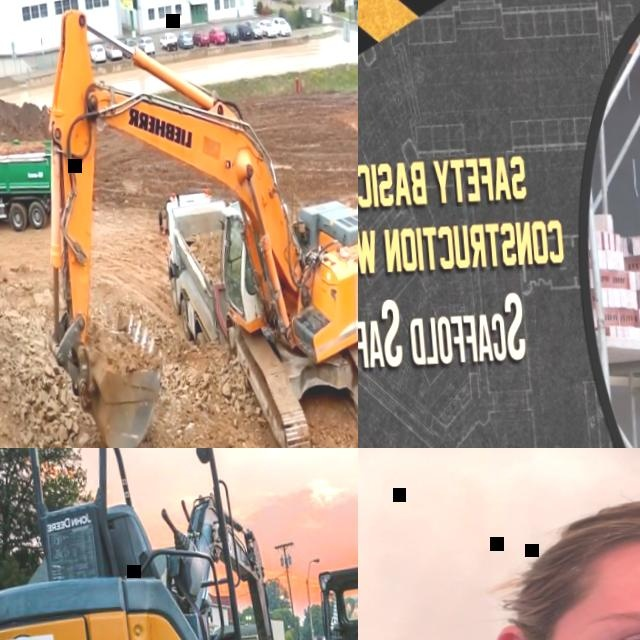NO-Hardhat: (525, 480, 640, 600)
Person: (358, 464, 640, 640), (244, 266, 253, 291)
machinery: (19, 0, 358, 448), (0, 448, 317, 640), (155, 184, 237, 347), (267, 558, 358, 640), (0, 127, 59, 237)
vehicle: (272, 14, 291, 36), (257, 17, 277, 37), (159, 31, 178, 51), (221, 23, 240, 43), (121, 36, 138, 58), (105, 41, 123, 61), (136, 35, 154, 55), (192, 27, 210, 47), (89, 42, 106, 63), (208, 25, 226, 44), (177, 29, 194, 49), (245, 18, 262, 38), (235, 21, 252, 40)
